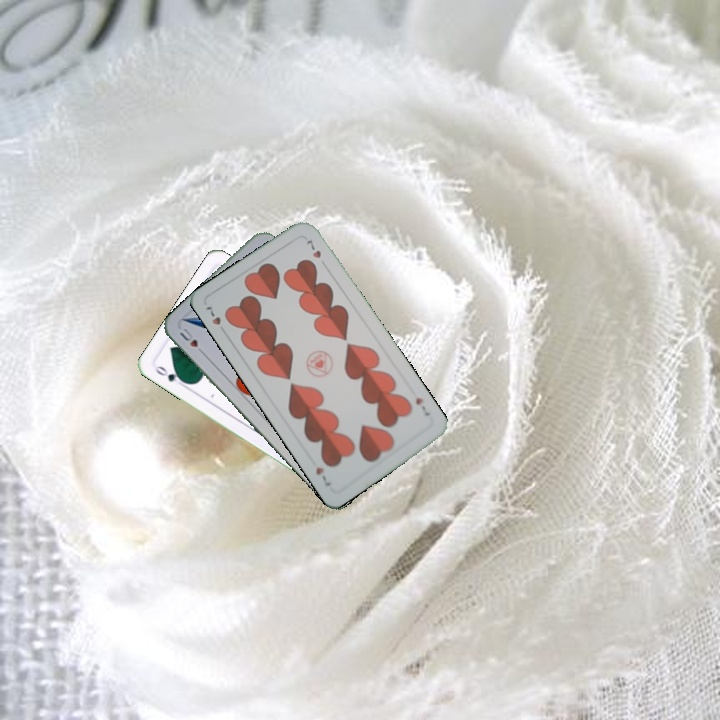GO: (151, 361, 189, 390)
H7: (201, 302, 229, 337), (412, 393, 432, 419)
HU: (175, 324, 208, 358)
